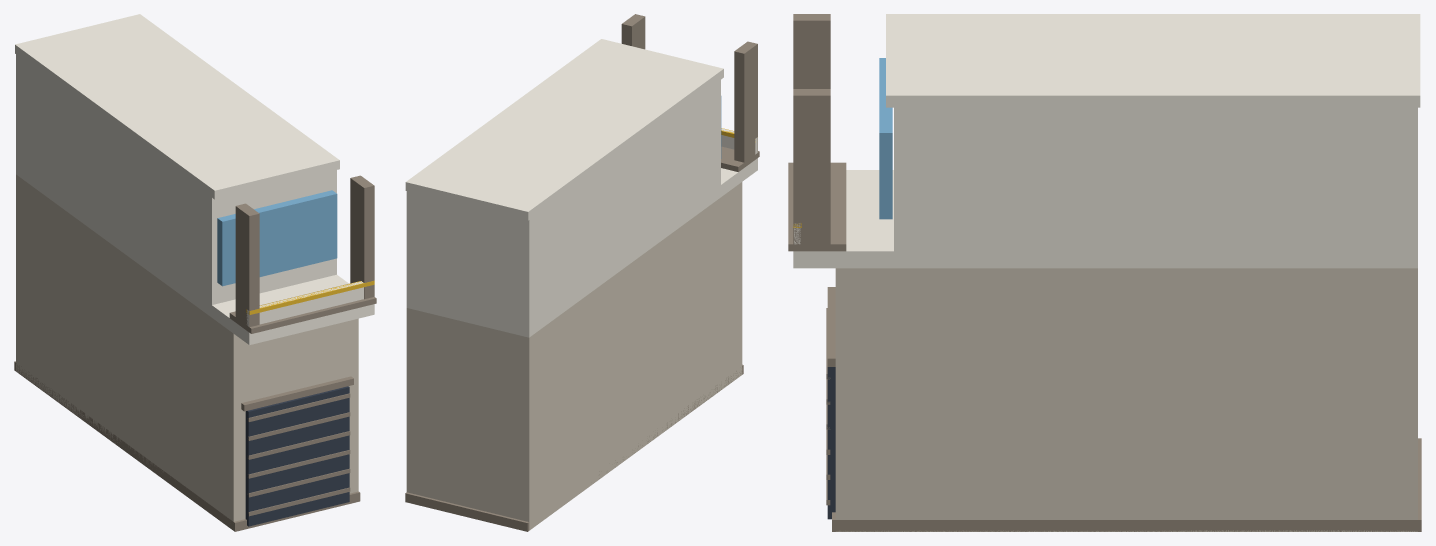
File: pitClubBay.glb
3 renders of one model, left to right at view 1: azimuth 30°, elevation 25°; view 2: azimuth 150°, elevation 25°; view 3: azimuth 270°, elevation 25°, orthographic. The views are drawn at different scales.
Visible parts, largest first — view 1: pitClubBay_white, pitClubBay_concrete, pitClubBay_concreteDark, pitClubBay_steelDark, pitClubBay_glass, pitClubBay_yellow; view 2: pitClubBay_white, pitClubBay_concrete, pitClubBay_concreteDark; view 3: pitClubBay_concrete, pitClubBay_white, pitClubBay_concreteDark, pitClubBay_glass, pitClubBay_steelDark.
Part boxes in pixels (x1=…): pitClubBay_white: x1=15, y1=14, x2=374, y2=344; pitClubBay_concrete: x1=16, y1=174, x2=358, y2=521; pitClubBay_concreteDark: x1=14, y1=175, x2=376, y2=531; pitClubBay_steelDark: x1=245, y1=386, x2=349, y2=526; pitClubBay_glass: x1=217, y1=190, x2=337, y2=286; pitClubBay_yellow: x1=246, y1=280, x2=374, y2=314; pitClubBay_white: x1=405, y1=39, x2=757, y2=337; pitClubBay_concrete: x1=406, y1=182, x2=742, y2=530; pitClubBay_concreteDark: x1=405, y1=14, x2=759, y2=531; pitClubBay_concrete: x1=835, y1=268, x2=1417, y2=531; pitClubBay_white: x1=793, y1=14, x2=1420, y2=268; pitClubBay_concreteDark: x1=788, y1=14, x2=1421, y2=531; pitClubBay_glass: x1=879, y1=58, x2=892, y2=219; pitClubBay_steelDark: x1=827, y1=367, x2=835, y2=519.
Size of the model in its own units: 7.3 by 18.2 by 23.95.
